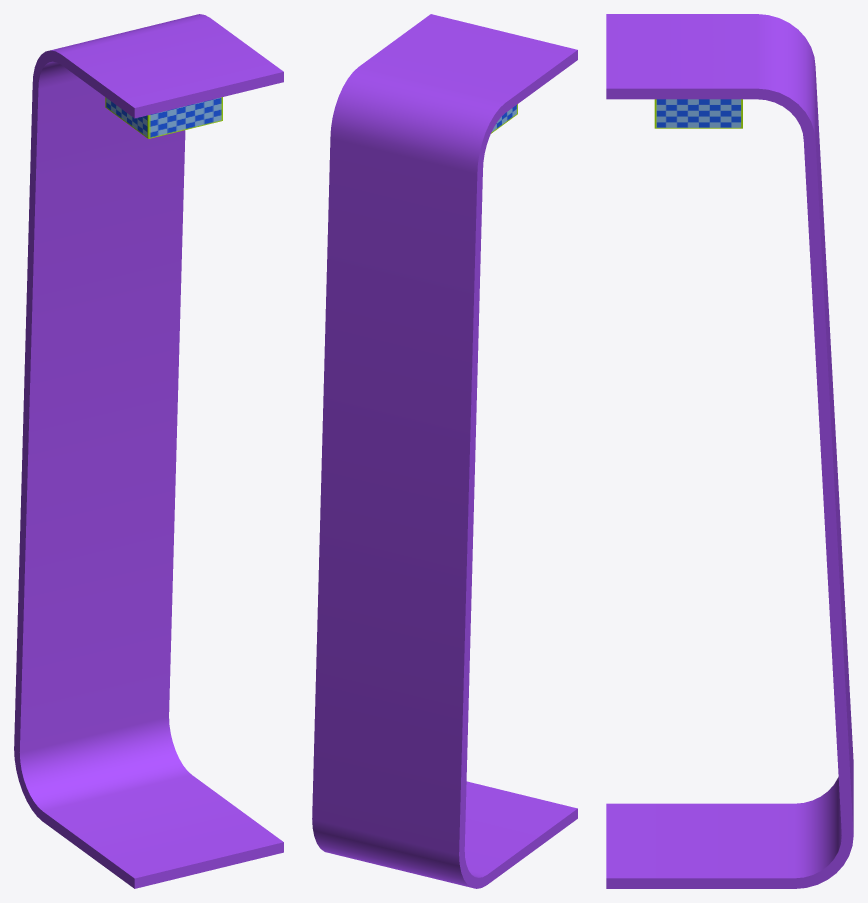
The model's file is LightFloor07_1.FBX.
3 views of the same model, side by side, from view 1: azimuth 30°, elevation 25°; view 2: azimuth 150°, elevation 25°; view 3: azimuth 270°, elevation 25° (orthographic). The views are drawn at different scales.
Visible parts, largest first — view 1: LightFloor07_1; view 2: LightFloor07_1; view 3: LightFloor07_1.
Boxes of the visible parts, left/top/right/bottom form: LightFloor07_1: left=14, top=14, right=283, bottom=888; LightFloor07_1: left=312, top=14, right=577, bottom=888; LightFloor07_1: left=606, top=14, right=853, bottom=888.
Bounding box in the file's own units: 30 × 150 × 42.
